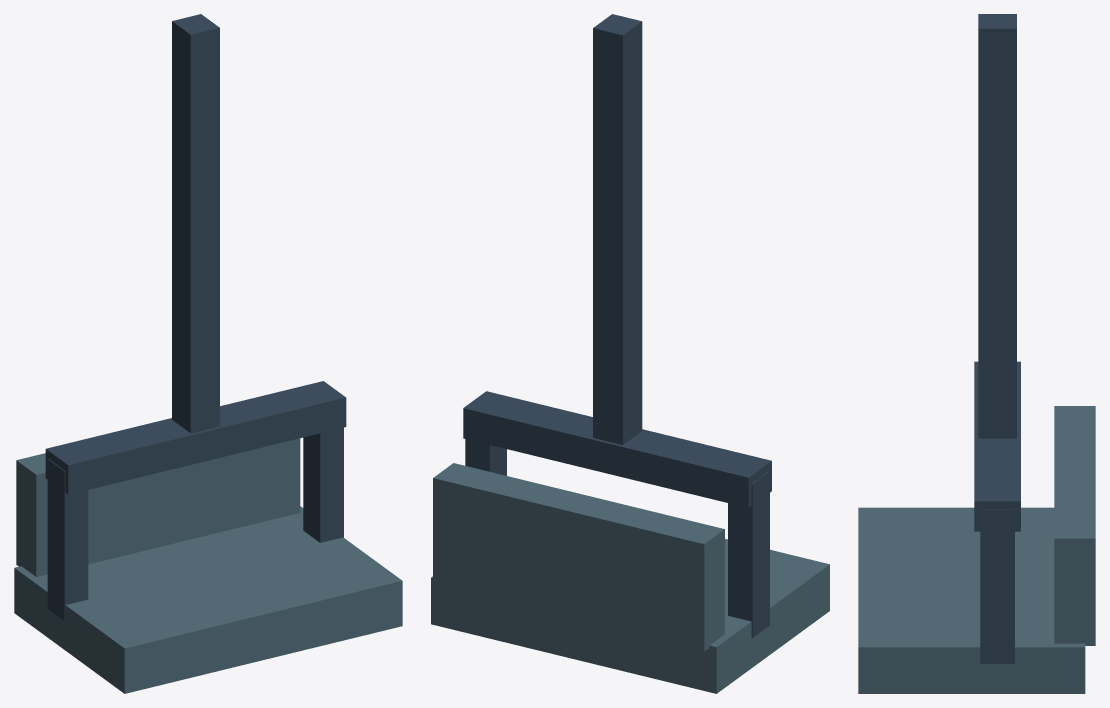
Rendered from single.glb.
3 views of the same model, side by side, from view 1: azimuth 30°, elevation 25°; view 2: azimuth 150°, elevation 25°; view 3: azimuth 270°, elevation 25° (orthographic). The views are drawn at different scales.
Visible parts, largest first — view 1: single; view 2: single; view 3: single.
Boxes of the visible parts, x1=… form: single: x1=14, y1=14, x2=402, y2=693; single: x1=431, y1=14, x2=829, y2=693; single: x1=858, y1=14, x2=1095, y2=693.
Bounding box in the file's own units: 0.6438 × 1.29 × 0.46.
